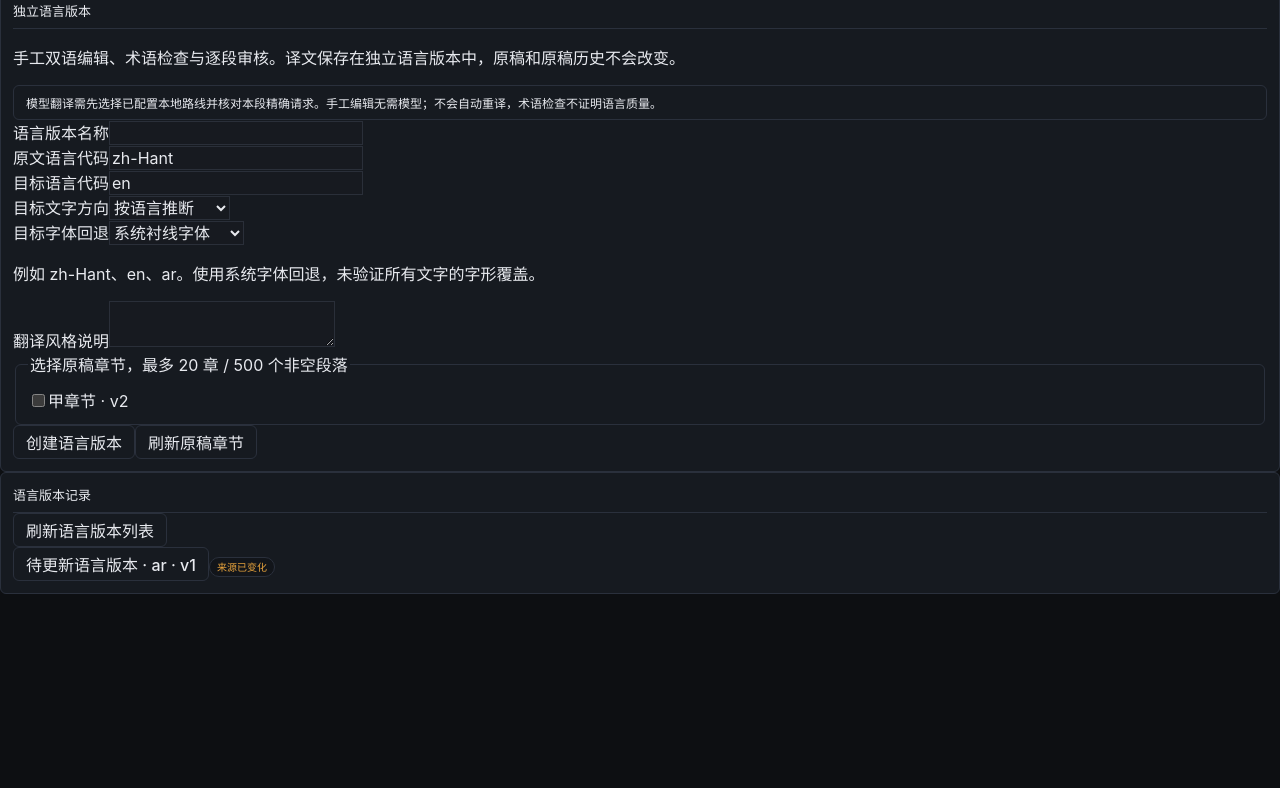
Test: shows stale metadata without plaintext and requires alignment preview before recovery
Click the button "待更新语言版本 · ar · v1" at [111, 564], box [13,547,209,581]
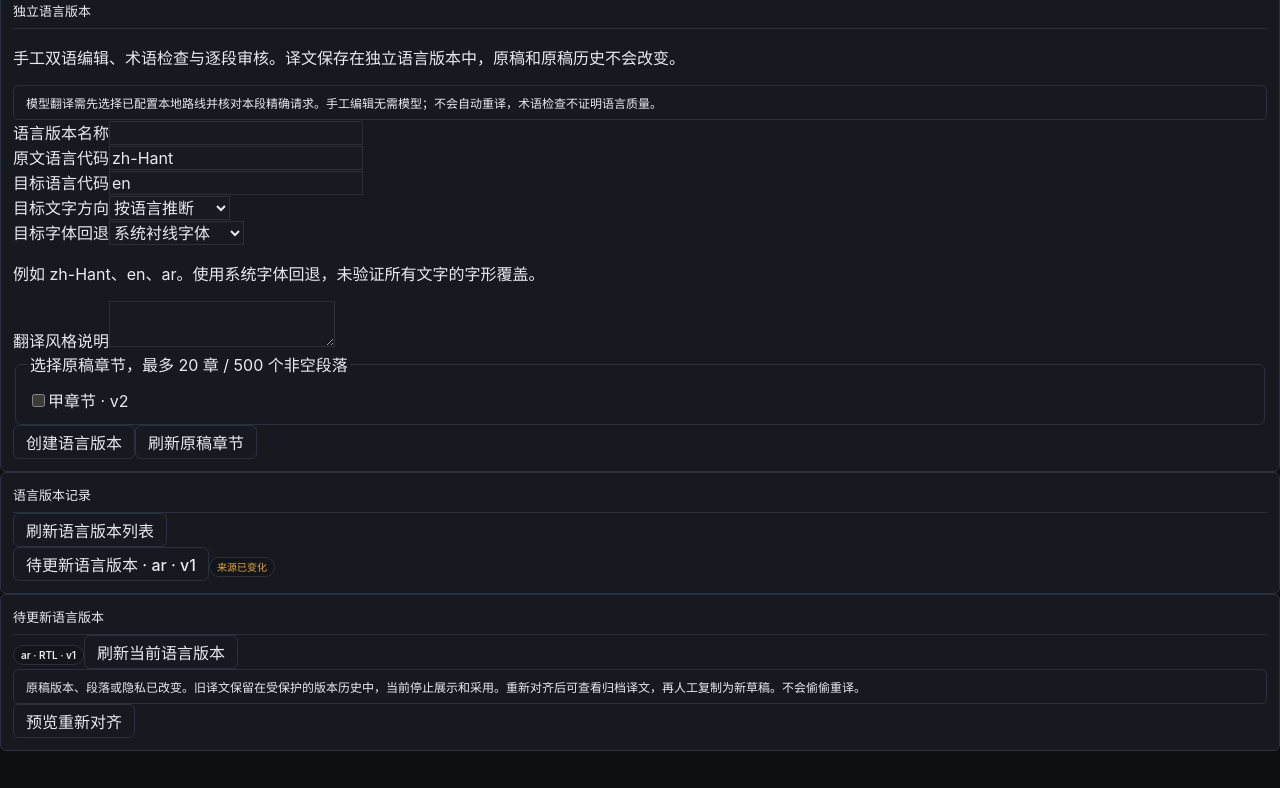
Expected: the field labelled "第 1 段译文" is not shown
Expected: the text "甲🙂é“原文”" is not shown
Click the button "预览重新对齐" at [74, 721], box [13,704,135,738]
(page scrolled)
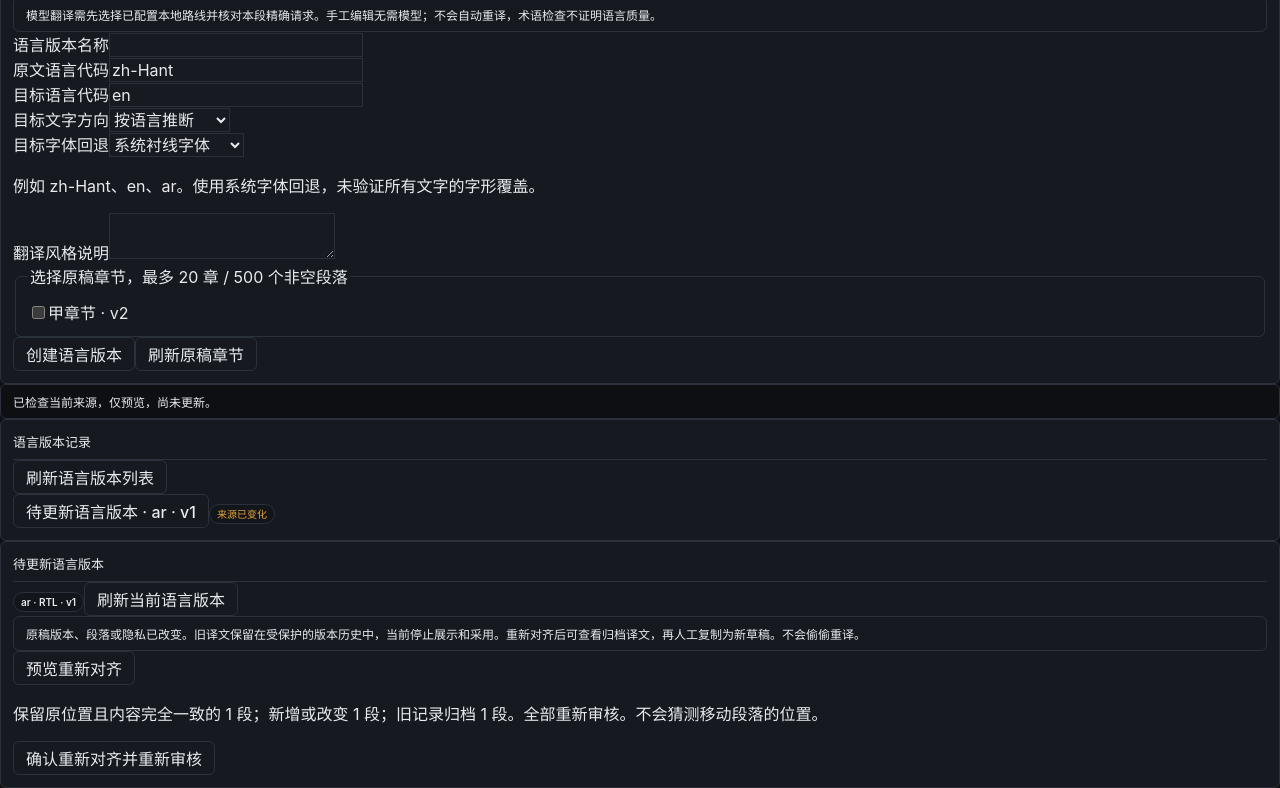
Click the button "确认重新对齐并重新审核" at [114, 758], box [13,741,215,775]
(page scrolled)
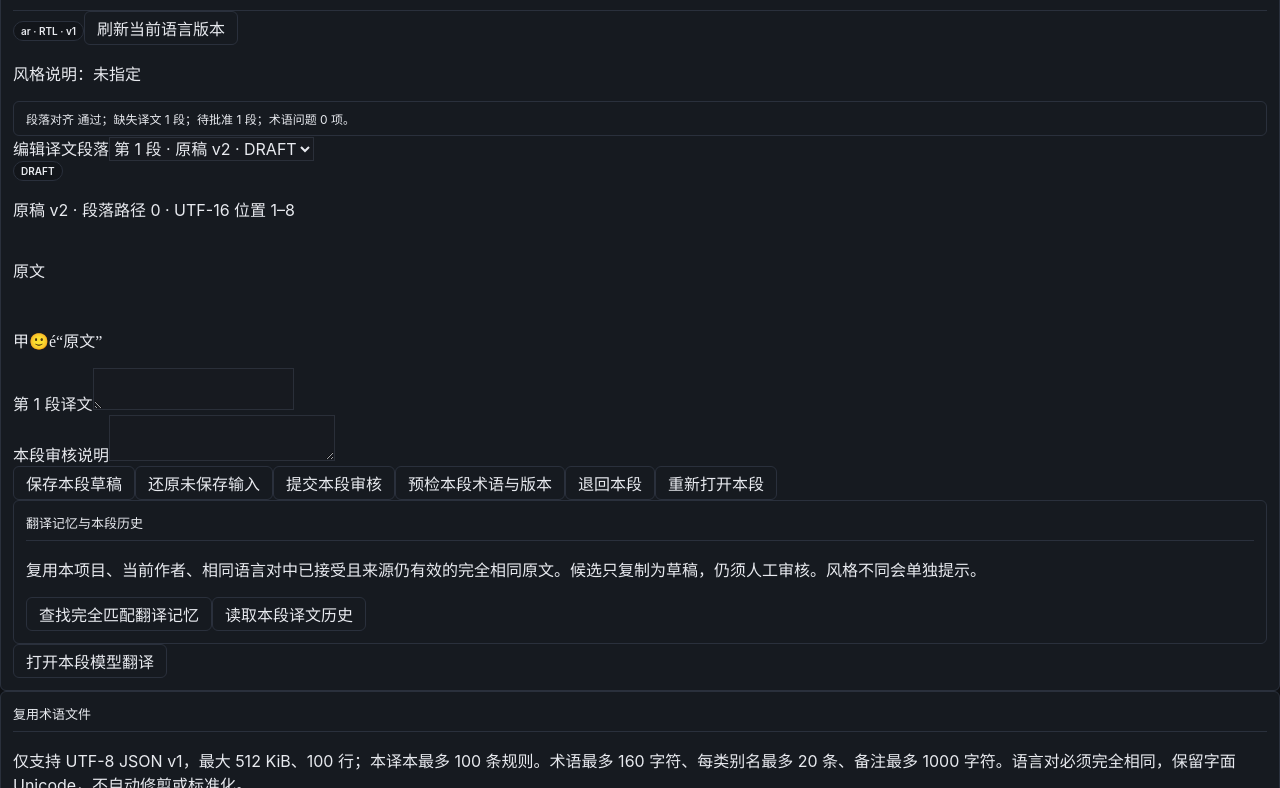
Expected: the text box labelled "第 1 段译文" is shown, [92,368,294,410]
